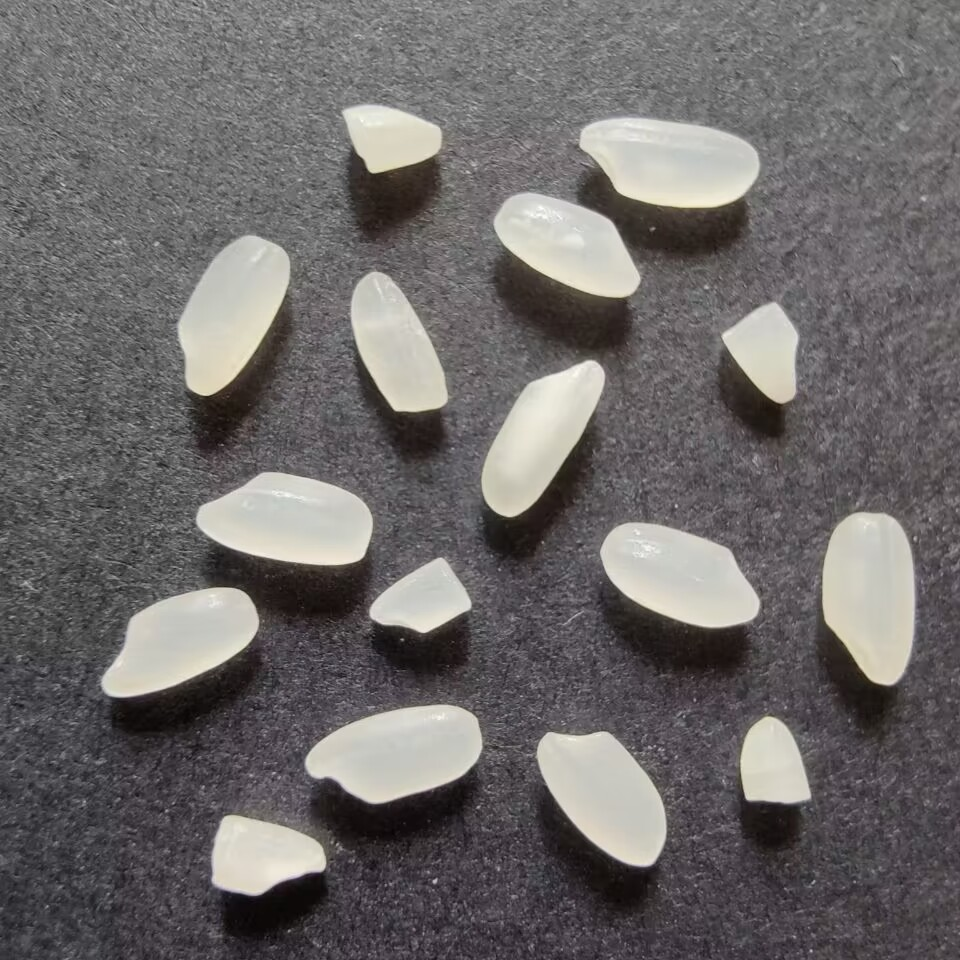broken: (202, 810, 328, 900), (713, 296, 812, 408), (365, 553, 476, 637), (335, 99, 449, 179), (731, 712, 813, 813)
rice: (475, 355, 605, 524), (92, 583, 264, 705), (533, 726, 672, 873), (187, 467, 379, 572), (176, 231, 295, 399), (298, 703, 489, 807), (594, 516, 765, 632), (570, 113, 764, 211), (818, 510, 921, 689), (487, 189, 644, 302), (348, 266, 452, 415)
